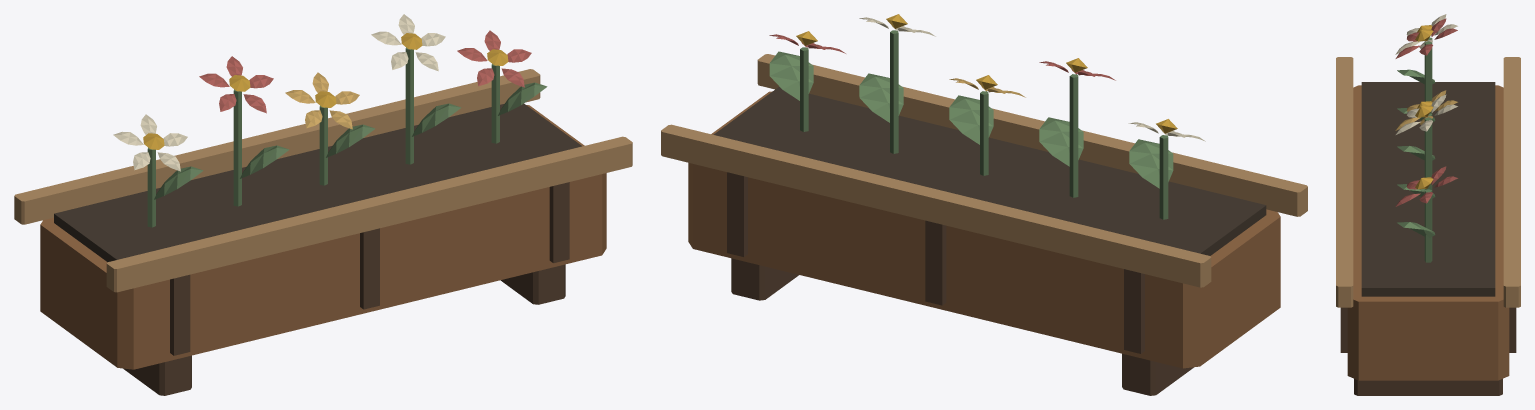
Rendered from deco_flower_box.glb.
The picture shows the model from 3 angles, left to right: view 1: azimuth 30°, elevation 25°; view 2: azimuth 150°, elevation 25°; view 3: azimuth 270°, elevation 25°; orthographic projection. The views are drawn at different scales.
Visible parts, largest first — view 1: geometry; view 2: geometry; view 3: geometry.
Part boxes in pixels (box(x1,y1,x2,y2)): geometry: box(14, 14, 632, 395); geometry: box(661, 14, 1307, 395); geometry: box(1336, 14, 1520, 395).
Bounding box in the file's own units: 1.75 × 0.8622 × 0.595.
